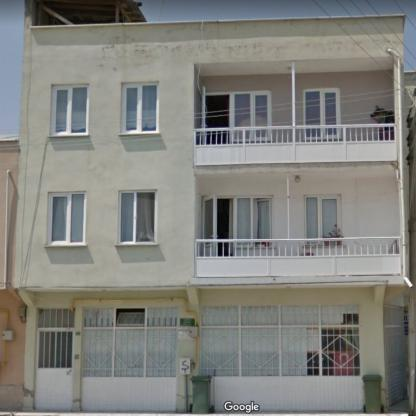door: (35, 330, 73, 410), (203, 195, 215, 256)
window: (231, 91, 271, 142), (118, 191, 156, 243), (304, 194, 342, 246), (48, 192, 85, 244), (235, 195, 272, 247), (120, 83, 158, 133), (51, 85, 88, 135), (304, 88, 340, 139), (37, 309, 74, 329), (114, 306, 146, 328)
